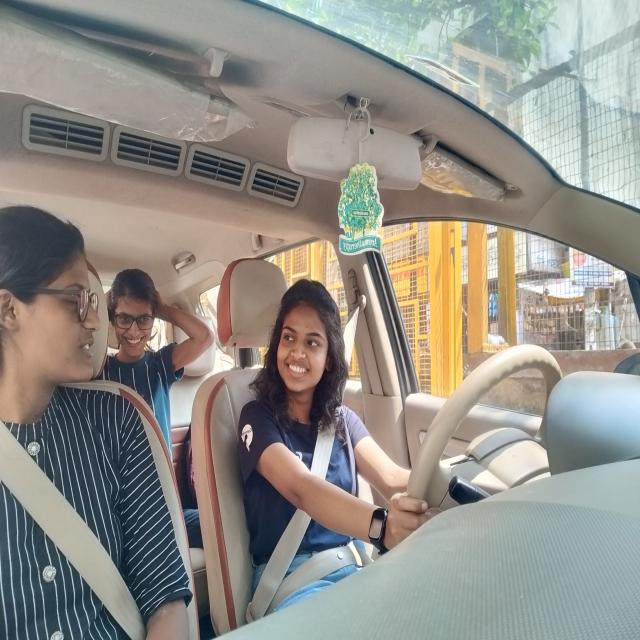LeftRight: (274, 275, 346, 399)
person: (0, 198, 111, 400), (112, 270, 158, 365)
talking: (284, 358, 316, 379), (77, 332, 98, 363)
